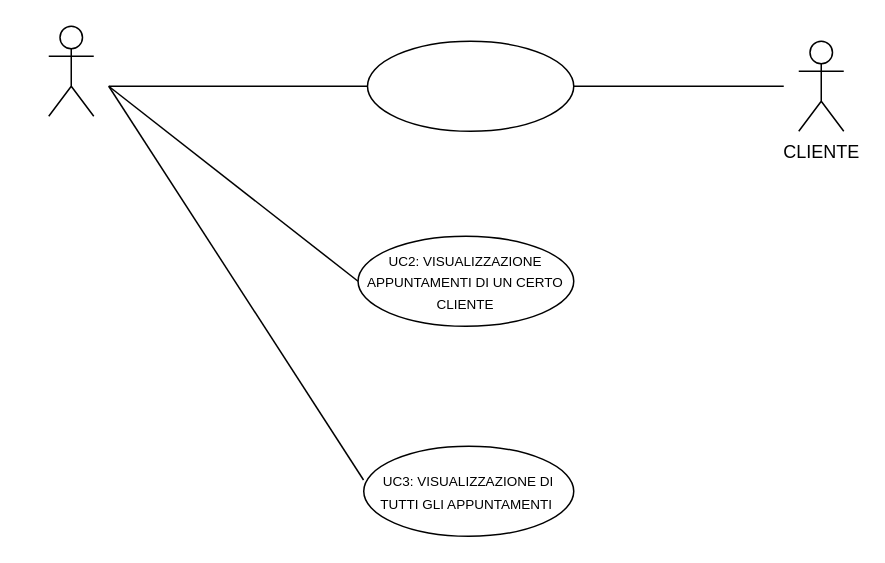
Image size: 885x563. Some labels were removed from this diagram. Each missing label, with the centre of its shape:
CENTRO ESTETICO: the point at 70,70
UC1: PRENOTAZIONE: the point at 470,85
